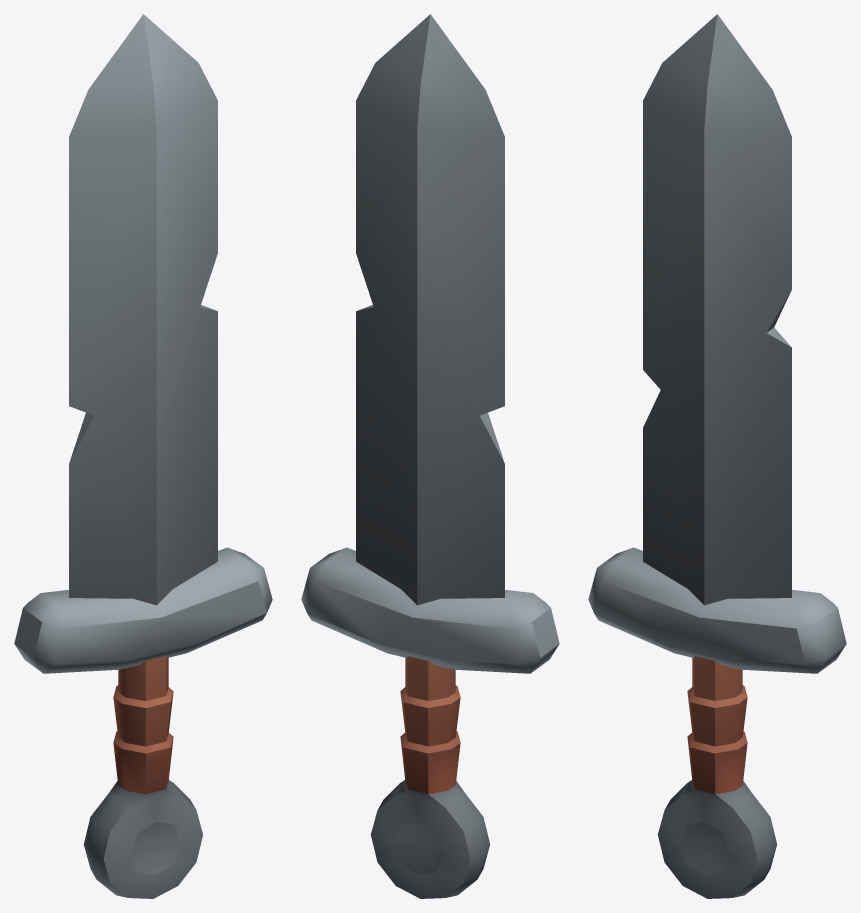
File: ashen-longsword.glb
3 views of the same model, side by side, from view 1: azimuth 30°, elevation 25°; view 2: azimuth 150°, elevation 25°; view 3: azimuth 330°, elevation 25° (orthographic).
Visible parts, largest first — view 1: 1H_Sword; view 2: 1H_Sword; view 3: 1H_Sword.
Boxes of the visible parts, x1,y1,x2,y2 form: 1H_Sword: (14, 14, 272, 898); 1H_Sword: (301, 14, 559, 898); 1H_Sword: (588, 14, 846, 898).
Bounding box in the file's own units: 0.5034 × 1.78 × 0.1306.
Materials: 1 (1 with a texture image).
